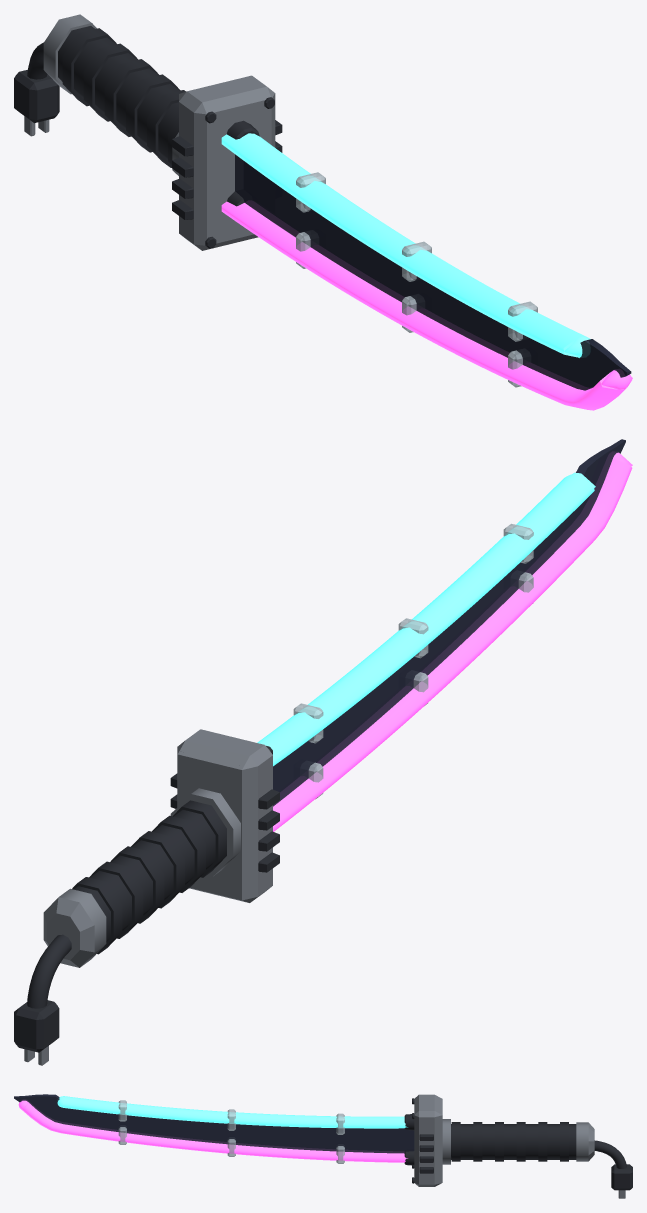
Rendered from w_katana@katana_neon.glb.
3 views of the same model, one above another, from view 1: azimuth 30°, elevation 25°; view 2: azimuth 150°, elevation 25°; view 3: azimuth 270°, elevation 25° (orthographic). The views are drawn at different scales.
Visible parts, largest first — view 1: kat_blade_wzB__glass__g252a40e0, kat_blade_wzN__cyan__n4fe3ff, kat_guard_wzN__steel__p7c828b, kat_tsuka_wzA__dark__p2b2e35, kat_blade_wzN__pink__nff4fb8, kat_trims_wzN__dark__p2b2e35, kat_guard_wzN__dark__p2b2e35, kat_blade_wzN__clip__gc4d3dcb2, kat_trims_wzN__steel__p7c828b; view 2: kat_blade_wzN__cyan__n4fe3ff, kat_blade_wzN__pink__nff4fb8, kat_blade_wzB__glass__g252a40e0, kat_tsuka_wzA__dark__p2b2e35, kat_guard_wzN__steel__p7c828b, kat_trims_wzN__steel__p7c828b, kat_trims_wzN__dark__p2b2e35, kat_blade_wzN__clip__gc4d3dcb2, kat_guard_wzN__dark__p2b2e35; view 3: kat_blade_wzB__glass__g252a40e0, kat_tsuka_wzA__dark__p2b2e35, kat_blade_wzN__cyan__n4fe3ff, kat_blade_wzN__pink__nff4fb8, kat_guard_wzN__steel__p7c828b, kat_trims_wzN__steel__p7c828b, kat_blade_wzN__clip__gc4d3dcb2, kat_trims_wzN__dark__p2b2e35, kat_guard_wzN__dark__p2b2e35.
Part boxes in pixels (x1=…): kat_blade_wzB__glass__g252a40e0: x1=235, y1=154, x2=631, y2=390; kat_blade_wzN__cyan__n4fe3ff: x1=221, y1=133, x2=590, y2=357; kat_guard_wzN__steel__p7c828b: x1=179, y1=75, x2=275, y2=250; kat_tsuka_wzA__dark__p2b2e35: x1=58, y1=26, x2=185, y2=167; kat_blade_wzN__pink__nff4fb8: x1=221, y1=201, x2=632, y2=410; kat_trims_wzN__dark__p2b2e35: x1=14, y1=42, x2=59, y2=123; kat_guard_wzN__dark__p2b2e35: x1=172, y1=97, x2=282, y2=248; kat_blade_wzN__clip__gc4d3dcb2: x1=296, y1=172, x2=537, y2=387; kat_trims_wzN__steel__p7c828b: x1=24, y1=14, x2=178, y2=175; kat_blade_wzN__cyan__n4fe3ff: x1=257, y1=472, x2=595, y2=766; kat_blade_wzN__pink__nff4fb8: x1=273, y1=452, x2=632, y2=831; kat_blade_wzB__glass__g252a40e0: x1=273, y1=439, x2=625, y2=806; kat_tsuka_wzA__dark__p2b2e35: x1=72, y1=800, x2=226, y2=954; kat_guard_wzN__steel__p7c828b: x1=177, y1=729, x2=272, y2=902; kat_trims_wzN__steel__p7c828b: x1=24, y1=788, x2=240, y2=1065; kat_trims_wzN__dark__p2b2e35: x1=14, y1=934, x2=71, y2=1052; kat_blade_wzN__clip__gc4d3dcb2: x1=293, y1=523, x2=533, y2=799; kat_guard_wzN__dark__p2b2e35: x1=170, y1=746, x2=279, y2=872; kat_blade_wzB__glass__g252a40e0: x1=14, y1=1094, x2=414, y2=1153; kat_tsuka_wzA__dark__p2b2e35: x1=451, y1=1122, x2=576, y2=1161; kat_blade_wzN__cyan__n4fe3ff: x1=57, y1=1096, x2=407, y2=1128; kat_blade_wzN__pink__nff4fb8: x1=18, y1=1100, x2=407, y2=1162; kat_guard_wzN__steel__p7c828b: x1=414, y1=1094, x2=442, y2=1186; kat_trims_wzN__steel__p7c828b: x1=442, y1=1119, x2=625, y2=1198; kat_blade_wzN__clip__gc4d3dcb2: x1=118, y1=1100, x2=344, y2=1163; kat_trims_wzN__dark__p2b2e35: x1=594, y1=1140, x2=632, y2=1190; kat_guard_wzN__dark__p2b2e35: x1=404, y1=1098, x2=433, y2=1183.
Size of the model in its own units: 0.096 by 0.1856 by 1.03.
